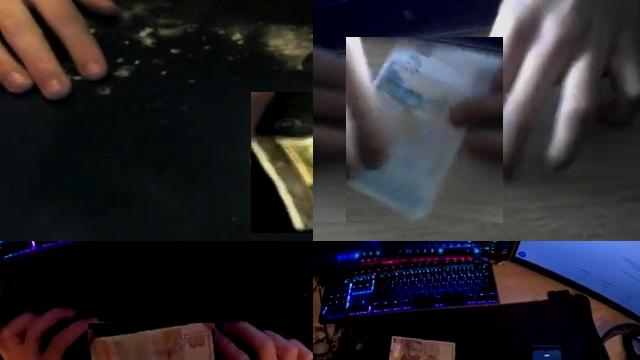20leva: (346, 37, 503, 223)
50leva: (88, 323, 214, 360), (388, 335, 456, 360)
